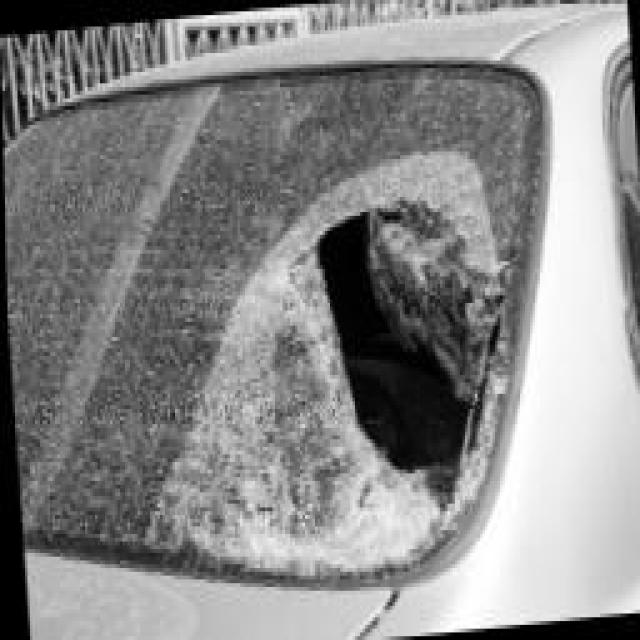Windshield: (3, 56, 540, 575)
